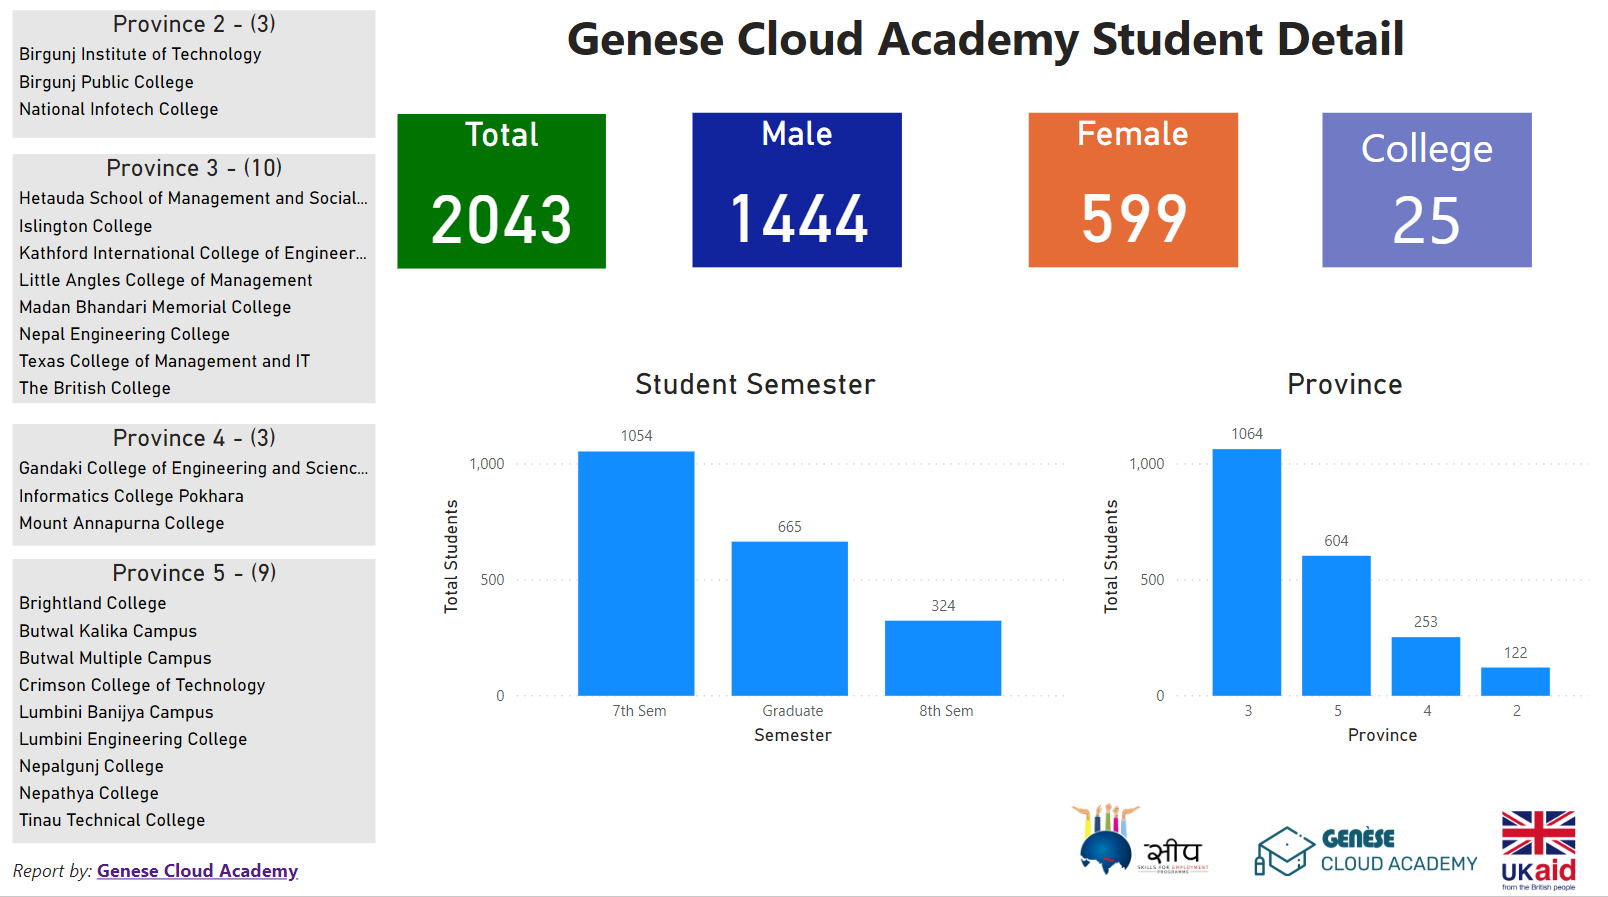

This screenshot's page, from the dashboard's own definition file:
{"tool":"powerbi","page":{"name":"Dashboard","canvas":[1280,720],"ordinal":0},"visuals":[{"type":"pieChart","title":"Student Gender","fields":{"Category":["user_latest.profile_field_gender1"],"Series":["user_latest.profile_field_gender1"],"Y":["CountNonNull(user_latest.profile_field_gender)"]},"box":[2.1,303.2,367.2,310.5],"z":0},{"type":"columnChart","title":"Student Semester","fields":{"Category":["user_latest.profile_field_Semester1"],"Y":["CountNonNull(user_latest.profile_field_Semester)1"]},"box":[369.4,303.2,513.4,310.5],"z":1000},{"type":"columnChart","title":"Province","fields":{"Category":["user_latest.profile_field_Province1"],"Y":["CountNonNull(user_latest.profile_field_Province)1"]},"box":[882.3,302.7,397.4,310.5],"z":2000},{"type":"card","title":"Total","fields":{"Values":["CountNonNull(user_latest.id)"]},"box":[47.1,98.8,178.8,124.4],"z":3000},{"type":"card","title":"Male","fields":{"Values":["CountNonNull(user_latest.profile_field_gender)"]},"box":[518.2,98.8,178.8,124.4],"z":4000},{"type":"card","title":"Female","fields":{"Values":["CountNonNull(user_latest.profile_field_gender)"]},"box":[1019.5,98.8,178.8,124.4],"z":5000},{"type":"textbox","box":[0,10.9,1279.3,72.5],"z":6000},{"type":"card","fields":{"Values":["Min(Kathmandu.datetime)"]},"box":[994.2,641.5,268.2,68.9],"z":7000}]}

Visuals, with their boxes in screenshot pixels (x1, y1, x2, y2), scaled from the page's 1280x720 canvas onto the 1608x897 screenshot:
"Student Gender" pieChart: select_region(3, 378, 464, 765)
"Student Semester" columnChart: select_region(464, 378, 1109, 765)
"Province" columnChart: select_region(1108, 377, 1607, 764)
"Total" card: select_region(59, 123, 284, 278)
"Male" card: select_region(651, 123, 876, 278)
"Female" card: select_region(1281, 123, 1505, 278)
textbox: select_region(0, 14, 1607, 104)
card - Min(Kathmandu.datetime): select_region(1249, 799, 1586, 885)
